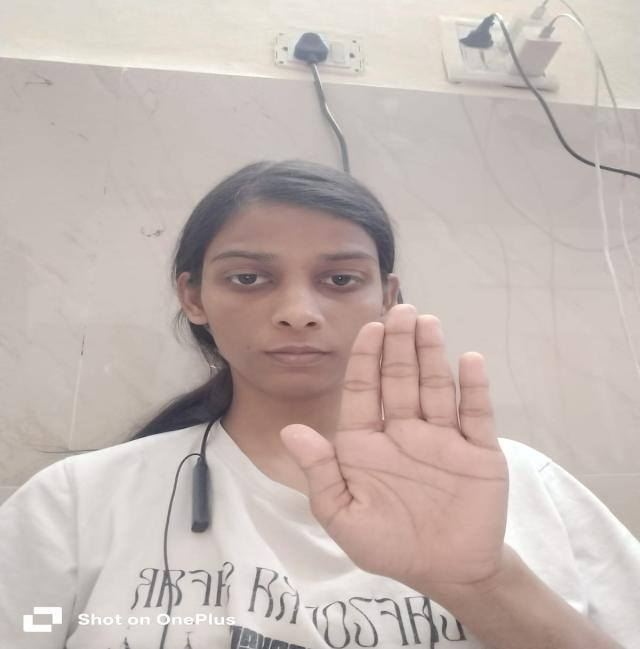Hello: (267, 297, 519, 603)
